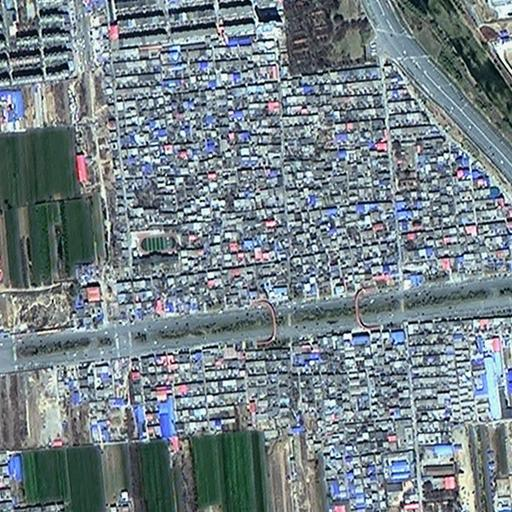school: (130, 226, 179, 267)
